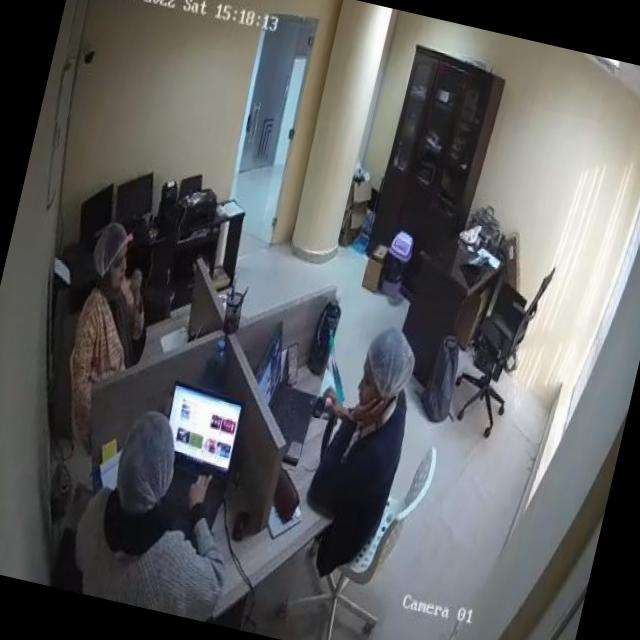hairnet: (112, 409, 184, 508), (364, 324, 420, 394), (90, 220, 129, 279)
